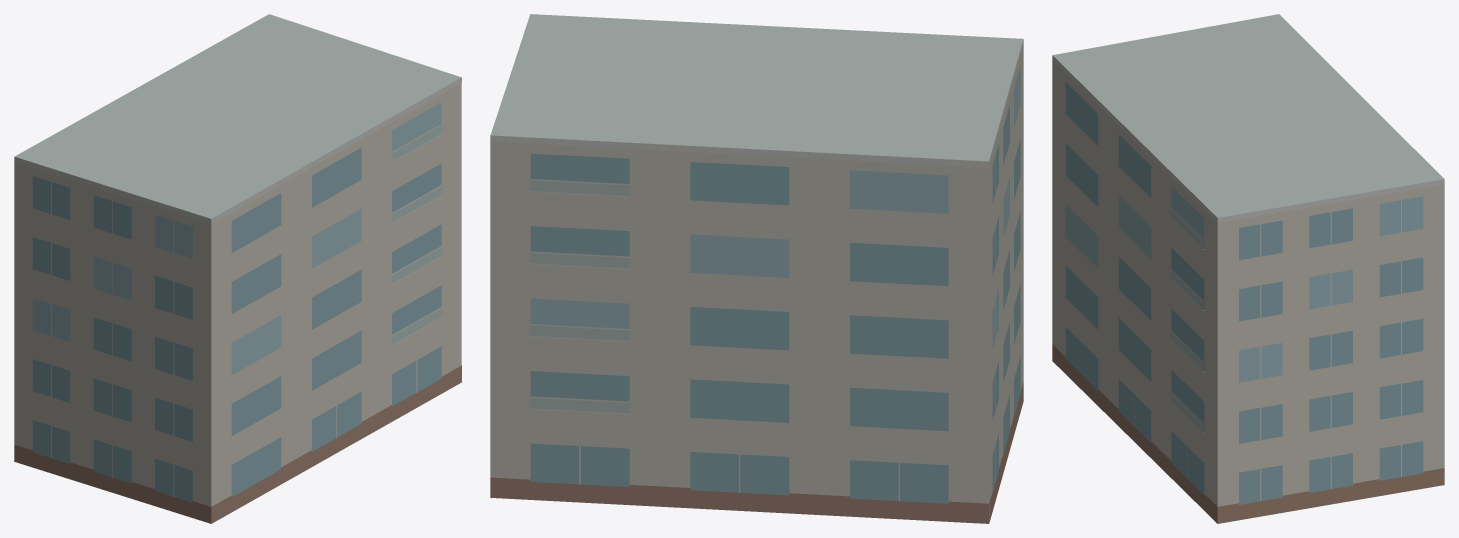
Rendered from survey-upis-32859592.glb.
3 views of the same model, side by side, from view 1: azimuth 30°, elevation 25°; view 2: azimuth 150°, elevation 25°; view 3: azimuth 270°, elevation 25° (orthographic). The views are drawn at different scales.
Visible parts, largest first — view 1: survey-upis-32859592.tmp; view 2: survey-upis-32859592.tmp; view 3: survey-upis-32859592.tmp.
Part boxes in pixels (bbox=[...]): survey-upis-32859592.tmp: bbox=[14, 14, 461, 523]; survey-upis-32859592.tmp: bbox=[490, 14, 1023, 523]; survey-upis-32859592.tmp: bbox=[1052, 14, 1444, 523].
Size of the model in its own units: 20.03 by 14 by 16.27.
